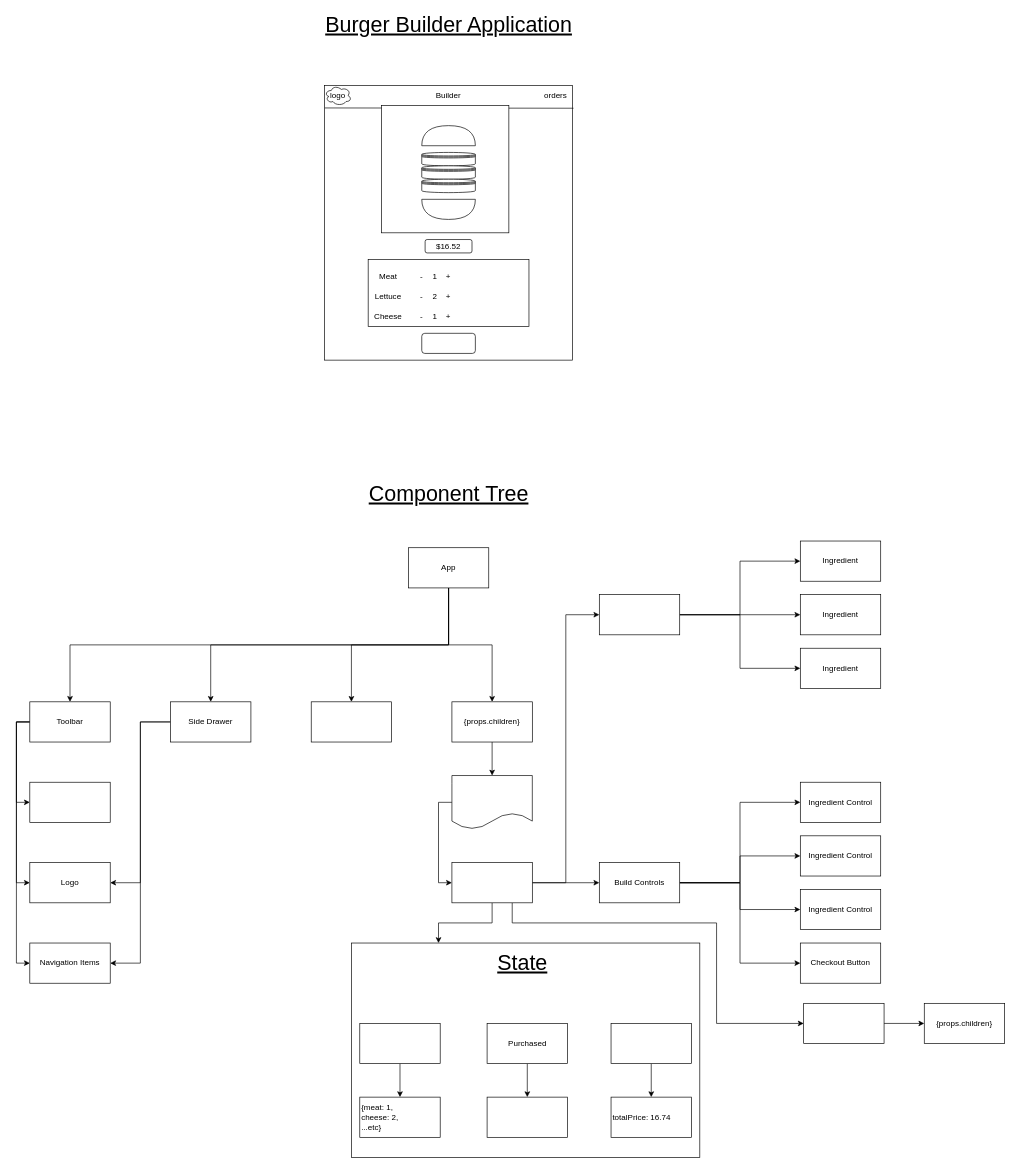
Image size: 1016x1169. Some labels were removed from this diagram. Here are the shapes that lost their labels. From the top down, the box of each, then its label:
(421, 333, 475, 353): Checkout
(599, 594, 680, 635): Burger Preview
(311, 701, 392, 742): Backdrop
(29, 782, 110, 822): Drawer Toggle
(451, 775, 532, 829): Different Pages
(451, 862, 532, 903): Burger Builder
(359, 1023, 440, 1064): Ingedients
(610, 1023, 691, 1064): Total Price
(803, 1003, 884, 1044): Checkout Modal
(486, 1096, 567, 1137): purchased: true
